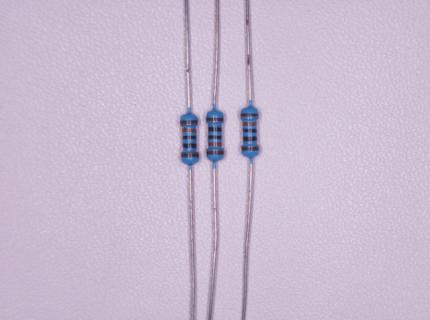Black band: (183, 136, 196, 140), (183, 144, 196, 148), (244, 137, 257, 141), (209, 127, 221, 131), (243, 129, 256, 132), (209, 136, 221, 139)
Brown band: (180, 120, 198, 124), (181, 153, 198, 157), (243, 147, 259, 151), (207, 151, 224, 154), (207, 118, 223, 121), (242, 114, 258, 116)
Orange band: (183, 128, 195, 132), (209, 142, 221, 146), (244, 122, 256, 126)
